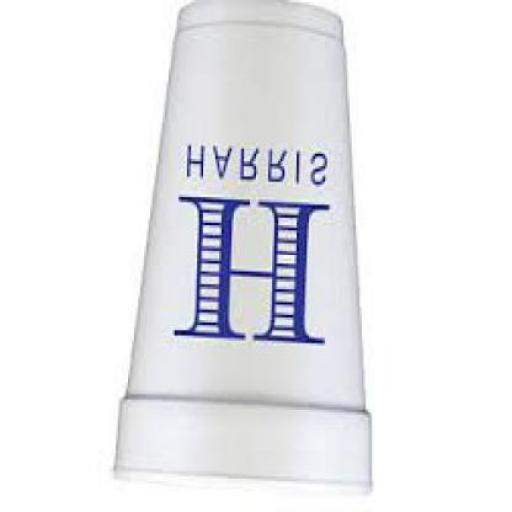paper: (112, 2, 372, 498)
